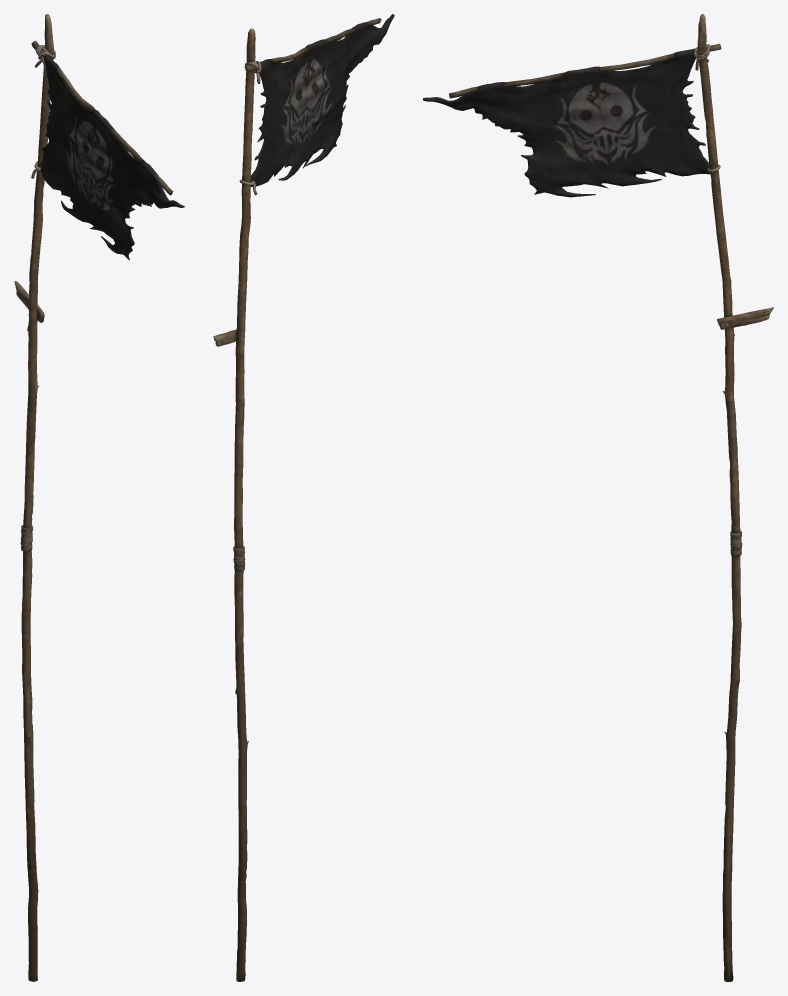
File: SM_GangFlag_9da531.glb
3 renders of one model, left to right at view 1: azimuth 30°, elevation 25°; view 2: azimuth 150°, elevation 25°; view 3: azimuth 270°, elevation 25°, orthographic. The views are drawn at different scales.
Bounding box in the file's own units: 0.1356 × 6.8 × 2.24.
1 material, 1 textured.
